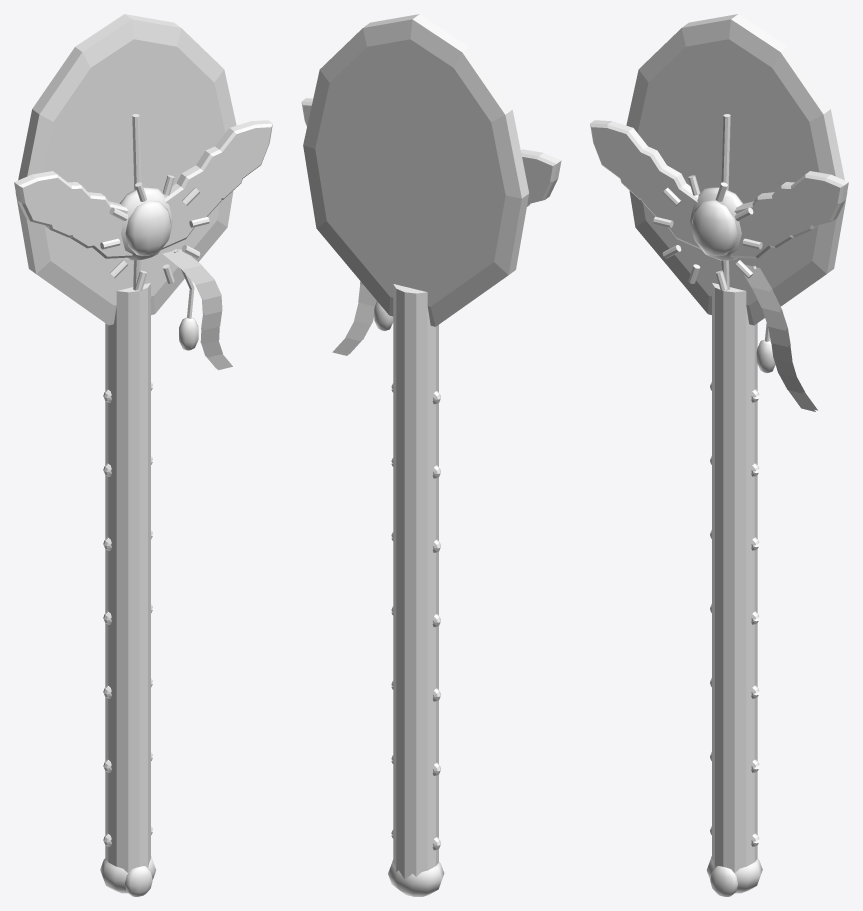
File: shovel.obj
3 views of the same model, side by side, from view 1: azimuth 30°, elevation 25°; view 2: azimuth 150°, elevation 25°; view 3: azimuth 330°, elevation 25° (orthographic).
Bounding box in the file's own units: 0.3209 × 1.05 × 0.0883.
